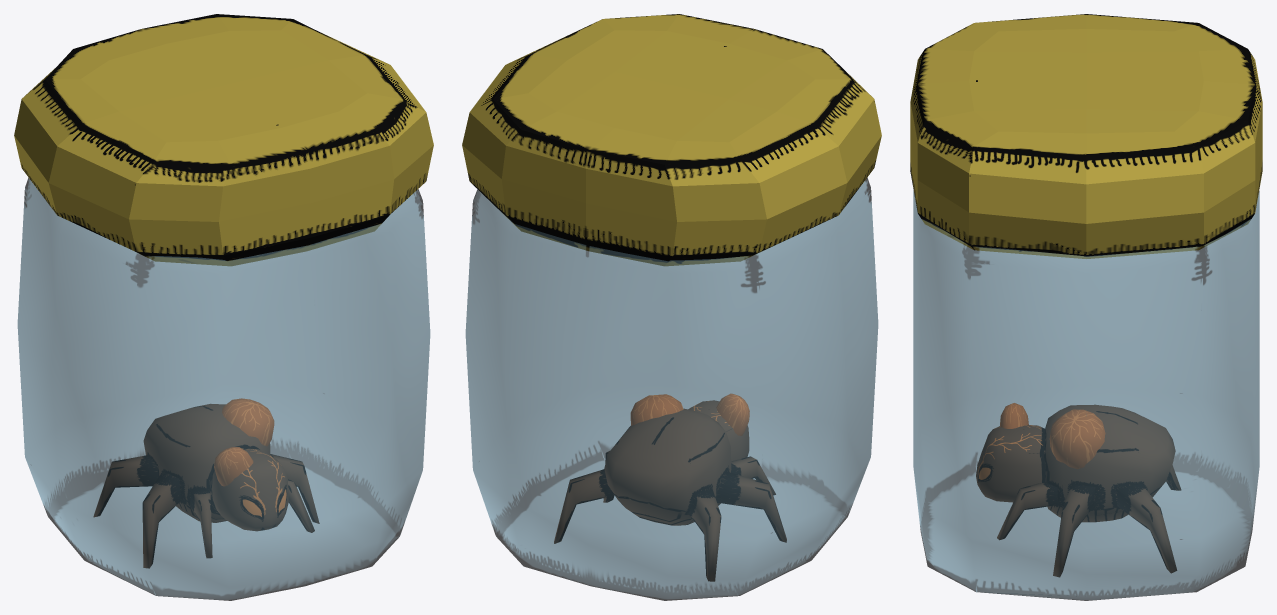
Rendered from pot1.fbx.
3 views of the same model, side by side, from view 1: azimuth 30°, elevation 25°; view 2: azimuth 150°, elevation 25°; view 3: azimuth 270°, elevation 25° (orthographic). The views are drawn at different scales.
Parts seen in each view (by area): view 1: pot, Cube.001, Cube.003, Cube.002, Cube.009, Cube.010, Cube.004, Cube.011, Cube.006, Cube.008, Cube.005; view 2: pot, Cube.001, Cube.003, Cube.009, Cube.010, Cube.007, Cube.004, Cube.002, Cube.011, Cube.008; view 3: pot, Cube.001, Cube.003, Cube.002, Cube.004, Cube.007, Cube.006, Cube.005, Cube.011.
Part boxes in pixels (x1,y1,x2,y2): pot: (17, 177, 430, 600); Cube.001: (14, 14, 433, 266); Cube.003: (143, 404, 270, 522); Cube.002: (211, 448, 288, 531); Cube.009: (142, 473, 181, 568); Cube.010: (93, 455, 157, 517); Cube.004: (222, 398, 274, 446); Cube.011: (214, 447, 253, 486); Cube.006: (270, 454, 319, 523); Cube.008: (190, 489, 212, 558); Cube.005: (288, 479, 314, 532); pot: (465, 177, 878, 600); Cube.001: (462, 14, 881, 266); Cube.003: (604, 408, 731, 525); Cube.009: (716, 471, 786, 542); Cube.010: (689, 487, 721, 581); Cube.007: (554, 469, 614, 543); Cube.004: (630, 394, 683, 425); Cube.002: (688, 400, 749, 460); Cube.011: (716, 393, 749, 435); Cube.008: (731, 456, 775, 495); pot: (913, 191, 1259, 600); Cube.001: (910, 14, 1262, 258); Cube.003: (1044, 404, 1175, 522); Cube.002: (976, 425, 1045, 502); Cube.004: (1049, 409, 1105, 468); Cube.007: (1115, 484, 1176, 573); Cube.006: (1053, 484, 1095, 577); Cube.005: (997, 482, 1058, 539); Cube.011: (1000, 403, 1028, 428).
Size of the model in its own units: 171 by 213 by 146.
7 materials, 7 textured.
